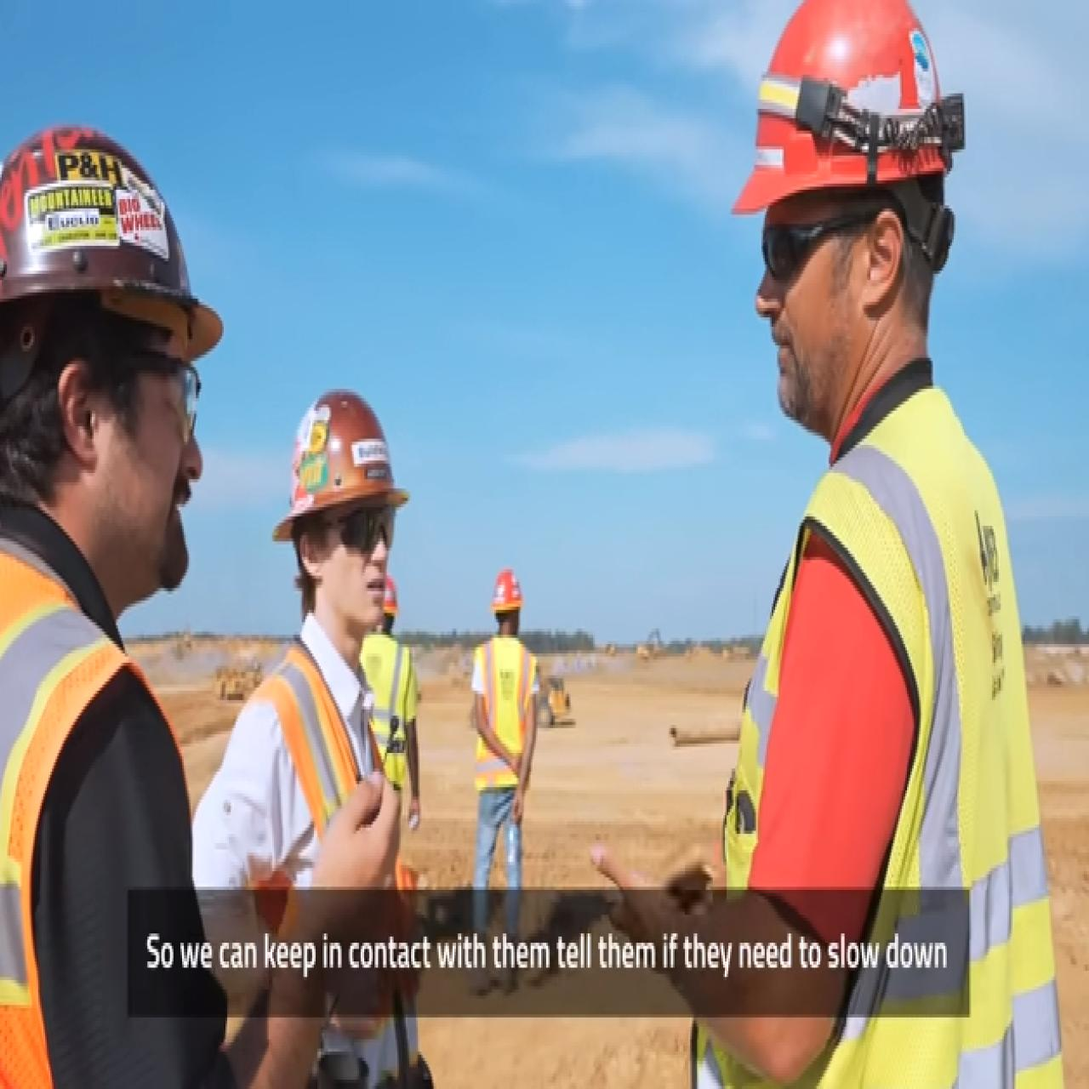Person: (586, 0, 1085, 1089), (0, 103, 408, 1076), (192, 348, 422, 1089), (466, 538, 550, 921), (349, 566, 420, 870)
Safety_Vest: (717, 393, 1083, 1089), (0, 513, 189, 1078), (228, 627, 417, 1031), (475, 634, 544, 804), (364, 644, 410, 778)
